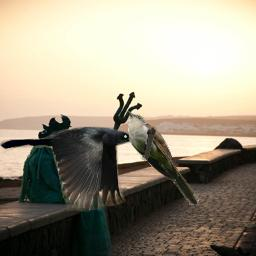Crow: (0, 125, 144, 212)
Cuckoo: (127, 111, 199, 205)
